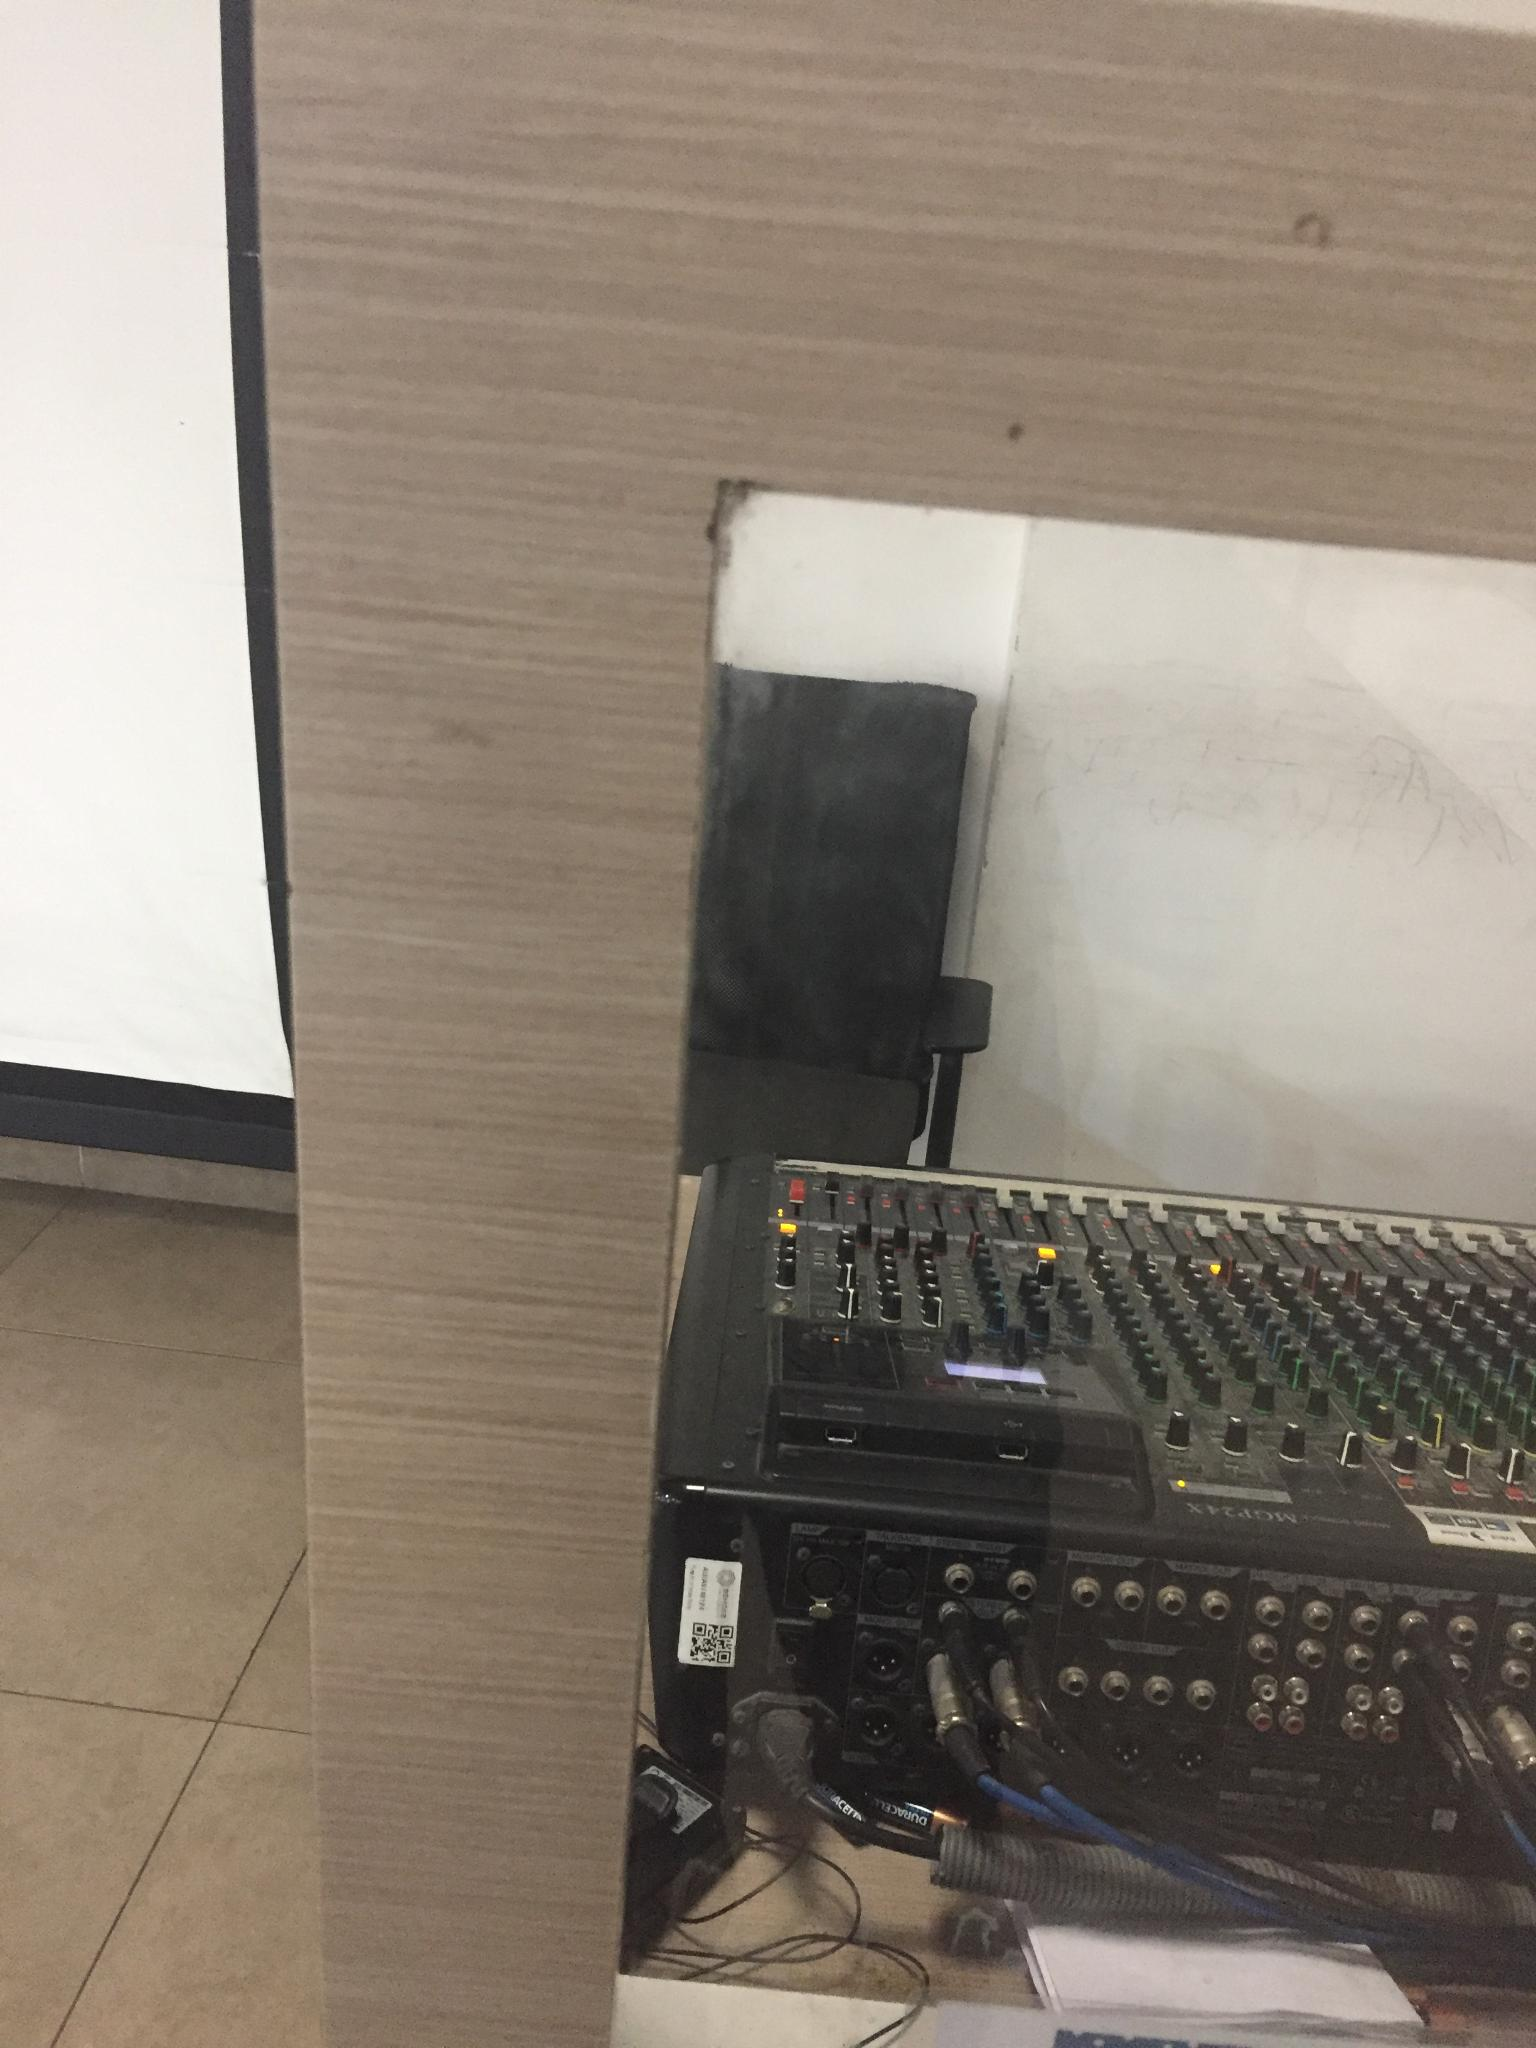chair: (587, 676, 1036, 1274)
